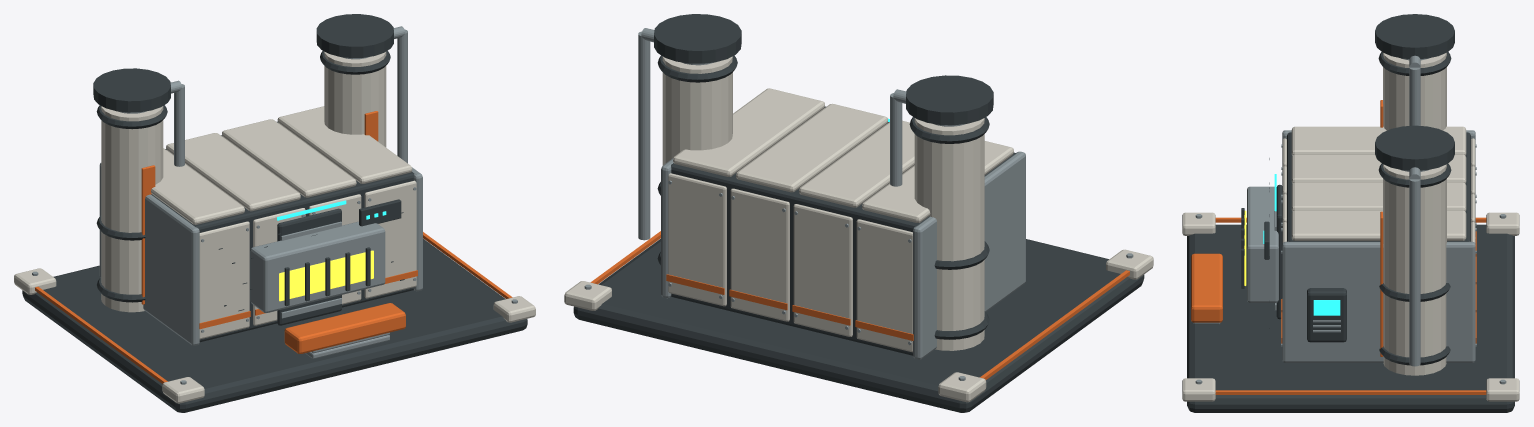
Rendered from SM_CopperSmelter_Body.001.fbx.
3 views of the same model, side by side, from view 1: azimuth 30°, elevation 25°; view 2: azimuth 150°, elevation 25°; view 3: azimuth 270°, elevation 25° (orthographic). The views are drawn at different scales.
Visible parts, largest first — view 1: SM_CopperSmelter_Body.001; view 2: SM_CopperSmelter_Body.001; view 3: SM_CopperSmelter_Body.001.
Part boxes in pixels (box(x1,y1,x2,y2)): SM_CopperSmelter_Body.001: box(14, 14, 535, 412); SM_CopperSmelter_Body.001: box(564, 14, 1153, 412); SM_CopperSmelter_Body.001: box(1182, 14, 1519, 412).
Bounding box in the file's own units: 532 × 422 × 333.
